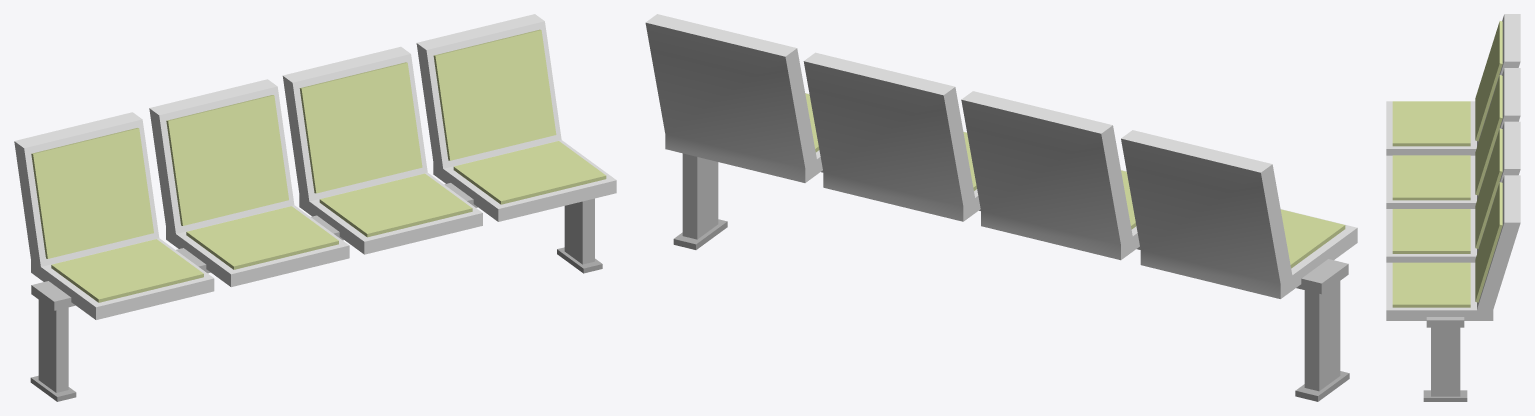
File: bench_1.fbx
3 views of the same model, side by side, from view 1: azimuth 30°, elevation 25°; view 2: azimuth 150°, elevation 25°; view 3: azimuth 270°, elevation 25° (orthographic). The views are drawn at different scales.
Visible parts, largest first — view 1: Cube_17; view 2: Cube_17; view 3: Cube_17.
Boxes of the visible parts, x1,y1,x2,y2 form: Cube_17: (14, 14, 616, 401); Cube_17: (645, 14, 1357, 401); Cube_17: (1386, 14, 1520, 401).
Bounding box in the file's own units: 94.64 × 35.38 × 24.53.
